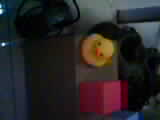duck: (71, 28, 116, 65)
